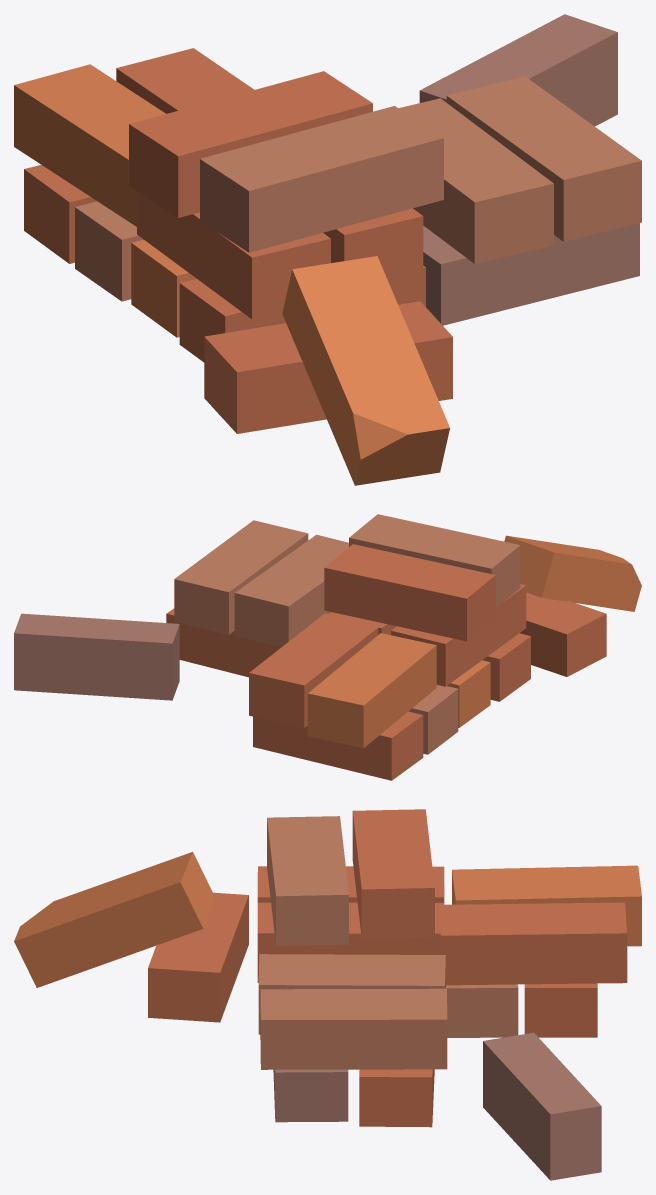
Rendered from Brick_Pile_m_02.fbx.
The picture shows the model from 3 angles, top to bottom: view 1: azimuth 30°, elevation 25°; view 2: azimuth 150°, elevation 25°; view 3: azimuth 270°, elevation 25°; orthographic projection. The views are drawn at different scales.
Parts seen in each view (by area): view 1: Brick_Pile_m_02; view 2: Brick_Pile_m_02; view 3: Brick_Pile_m_02.
Boxes of the visible parts, left/top/right/bottom form: Brick_Pile_m_02: left=14, top=14, right=641, bottom=485; Brick_Pile_m_02: left=14, top=514, right=641, bottom=780; Brick_Pile_m_02: left=14, top=809, right=641, bottom=1180.
Size of the model in its own units: 0.7791 by 0.2289 by 0.8589.
